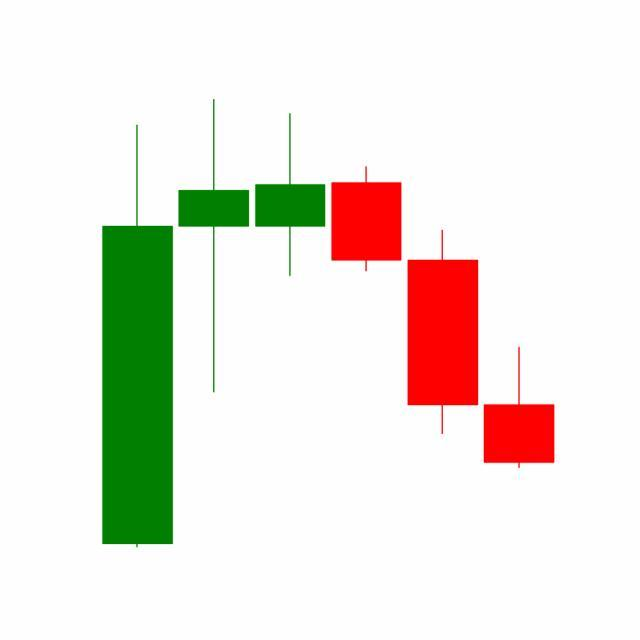Three Outside Up-Down: (252, 110, 482, 438)
